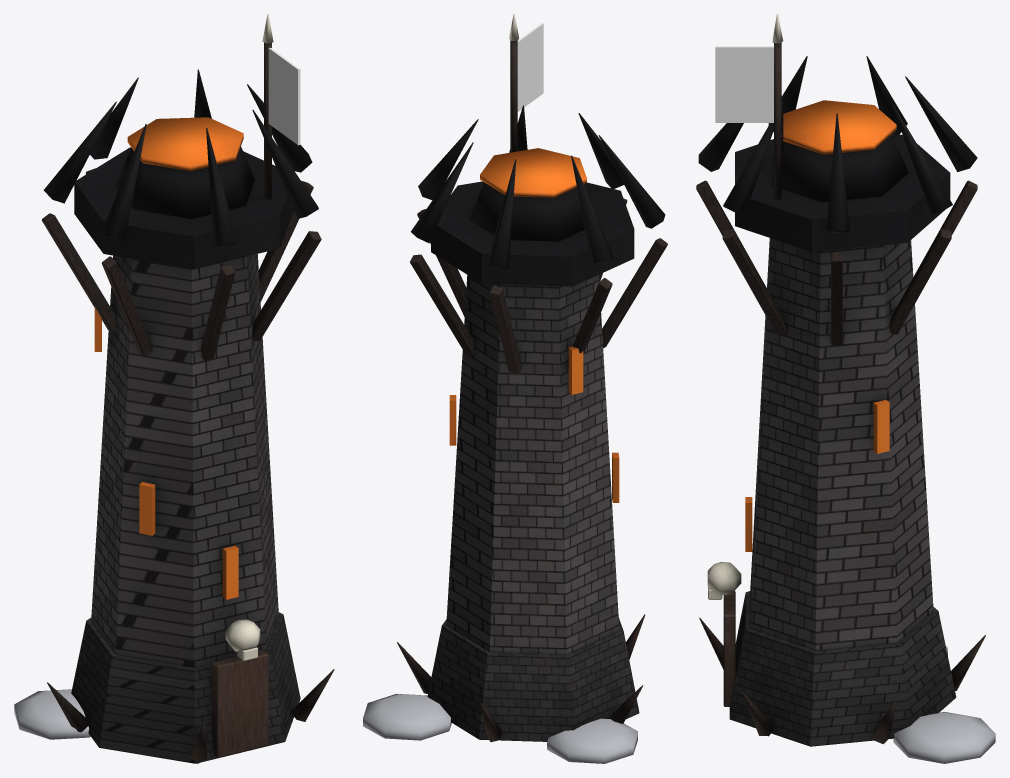
File: asch_tower.glb
3 renders of one model, left to right at view 1: azimuth 30°, elevation 25°; view 2: azimuth 150°, elevation 25°; view 3: azimuth 270°, elevation 25°, orthographic. The views are drawn at different scales.
Parts seen in each view (by area): view 1: asch_tower, Fahne1, Schnee; view 2: asch_tower, Schnee, Fahne1; view 3: asch_tower, Fahne1, Schnee.
Boxes of the visible parts, x1=… form: asch_tower: x1=42, y1=14, x2=334, y2=763; Fahne1: x1=268, y1=47, x2=300, y2=145; Schnee: x1=14, y1=689, x2=90, y2=739; asch_tower: x1=397, y1=14, x2=667, y2=742; Schnee: x1=363, y1=693, x2=637, y2=763; Fahne1: x1=517, y1=23, x2=543, y2=111; asch_tower: x1=696, y1=14, x2=985, y2=746; Fahne1: x1=715, y1=46, x2=773, y2=122; Schnee: x1=893, y1=646, x2=995, y2=763.
Size of the model in its own units: 2.56 by 6.69 by 2.51.
Materials: 3 (1 with a texture image).
